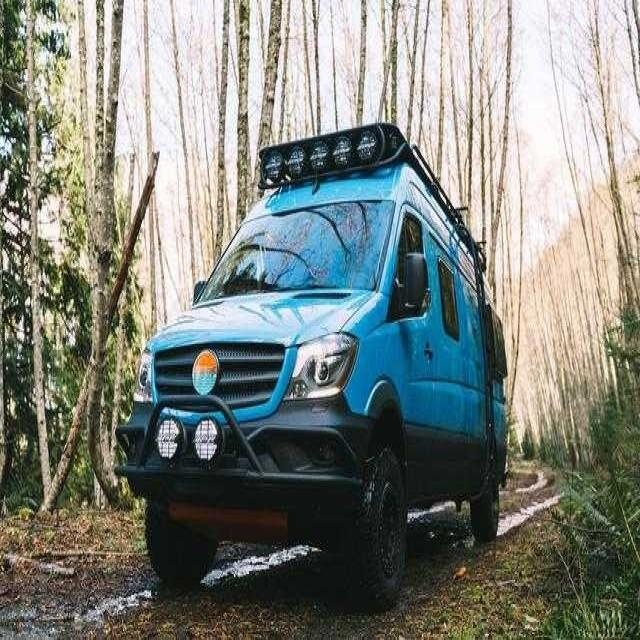Van: (125, 118, 511, 610)
